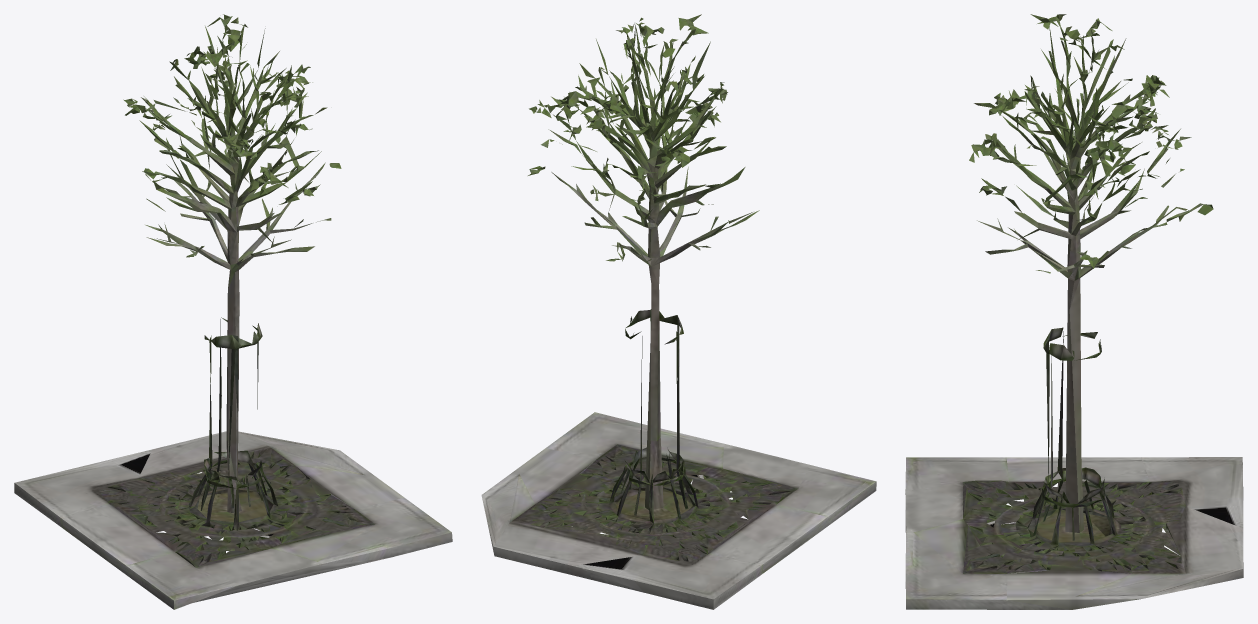
The model's file is arbre.glb.
3 views of the same model, side by side, from view 1: azimuth 30°, elevation 25°; view 2: azimuth 150°, elevation 25°; view 3: azimuth 270°, elevation 25° (orthographic). The views are drawn at different scales.
Parts seen in each view (by area): view 1: output_unwrapped; view 2: output_unwrapped; view 3: output_unwrapped.
Boxes of the visible parts, <box> form: output_unwrapped: <box>14,14,452,609</box>; output_unwrapped: <box>481,14,876,609</box>; output_unwrapped: <box>905,14,1243,609</box>.
Bounding box in the file's own units: 1 × 1.71 × 1.
Materials: 1 (1 with a texture image).
